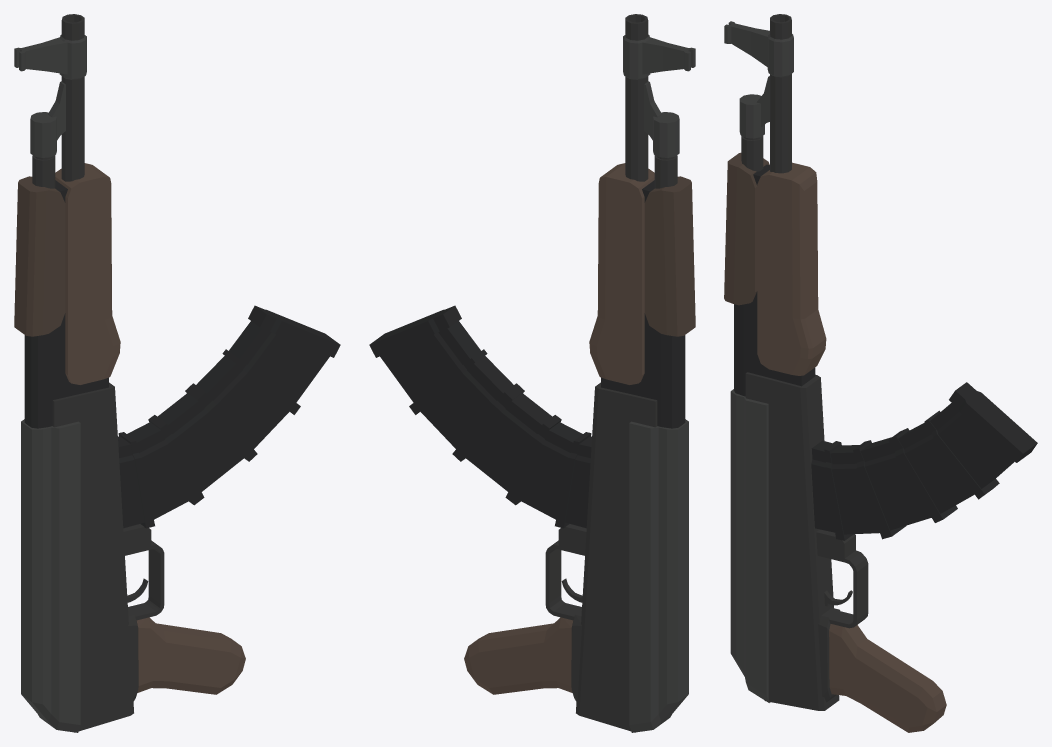
File: assaultrifle-3.glb
The picture shows the model from 3 angles, left to right: view 1: azimuth 30°, elevation 25°; view 2: azimuth 150°, elevation 25°; view 3: azimuth 330°, elevation 25°; orthographic projection. The views are drawn at different scales.
Visible parts, largest first — view 1: AssaultRifle_3; view 2: AssaultRifle_3; view 3: AssaultRifle_3.
Boxes of the visible parts, x1,y1,x2,y2 form: AssaultRifle_3: (14,14,340,732); AssaultRifle_3: (369,14,695,732); AssaultRifle_3: (724,14,1037,732).
Bounding box in the file's own units: 28 × 60 × 3.43.
